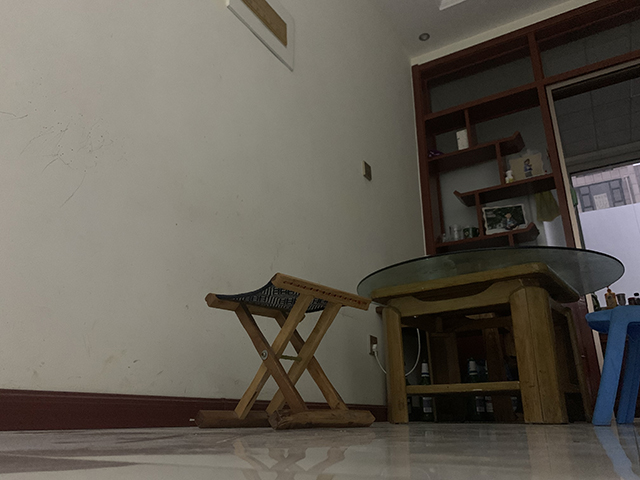stool: (194, 270, 378, 430), (582, 302, 640, 425)
table: (356, 242, 625, 425)
